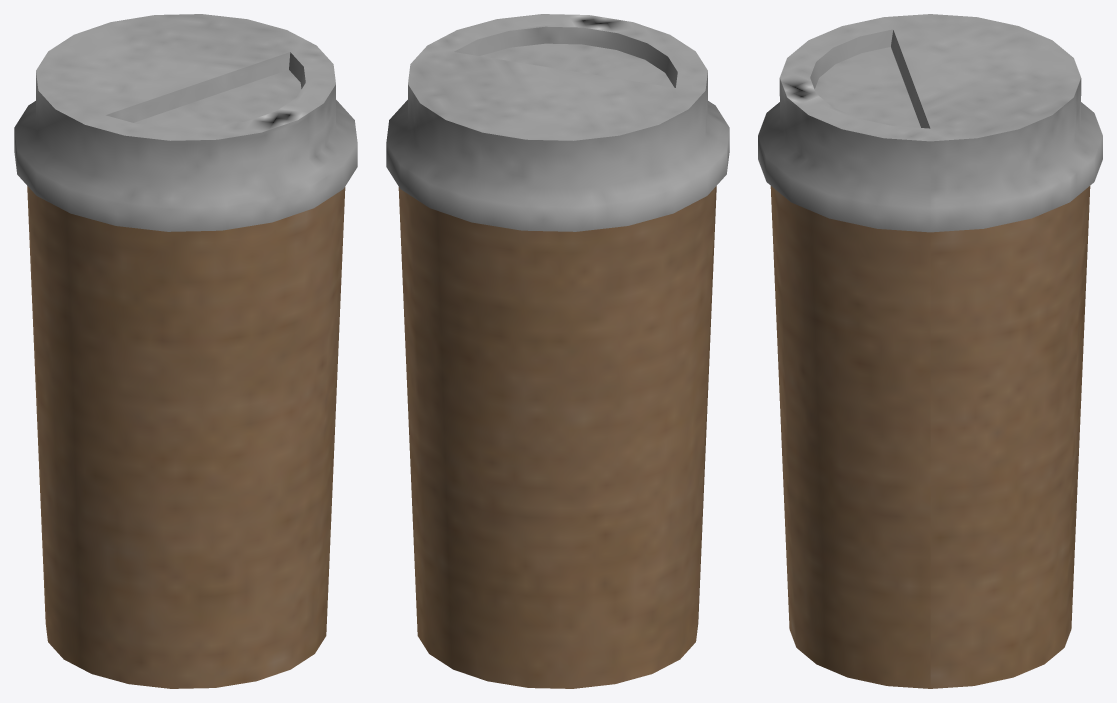
Rendered from HH_Cup_Cardboard_02.fbx.
3 renders of one model, left to right at view 1: azimuth 30°, elevation 25°; view 2: azimuth 150°, elevation 25°; view 3: azimuth 270°, elevation 25°, orthographic.
Parts seen in each view (by area): view 1: HH_Cup_Cardboard_02_LOD0; view 2: HH_Cup_Cardboard_02_LOD0; view 3: HH_Cup_Cardboard_02_LOD0.
Part boxes in pixels (left/top/right/bottom): HH_Cup_Cardboard_02_LOD0: left=14, top=14, right=357, bottom=688; HH_Cup_Cardboard_02_LOD0: left=386, top=14, right=729, bottom=688; HH_Cup_Cardboard_02_LOD0: left=758, top=14, right=1102, bottom=688.
Size of what is drawn, in the model's own units: 9.49 by 16.75 by 9.49.
